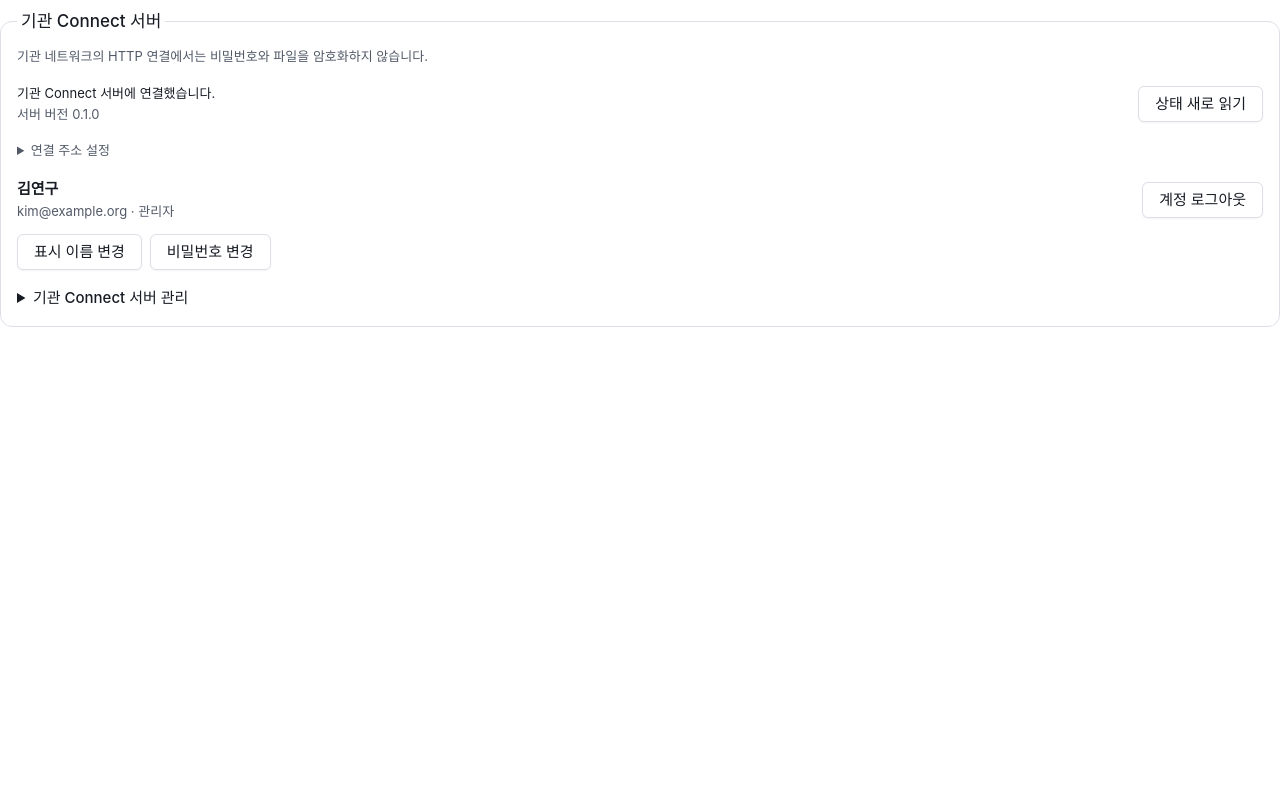
it: shows admin members, role changes and reversible account suspension; explains last-admin rejection
Click the heading "기관 Connect 서버 관리": (111, 298) [33,288,188,307]
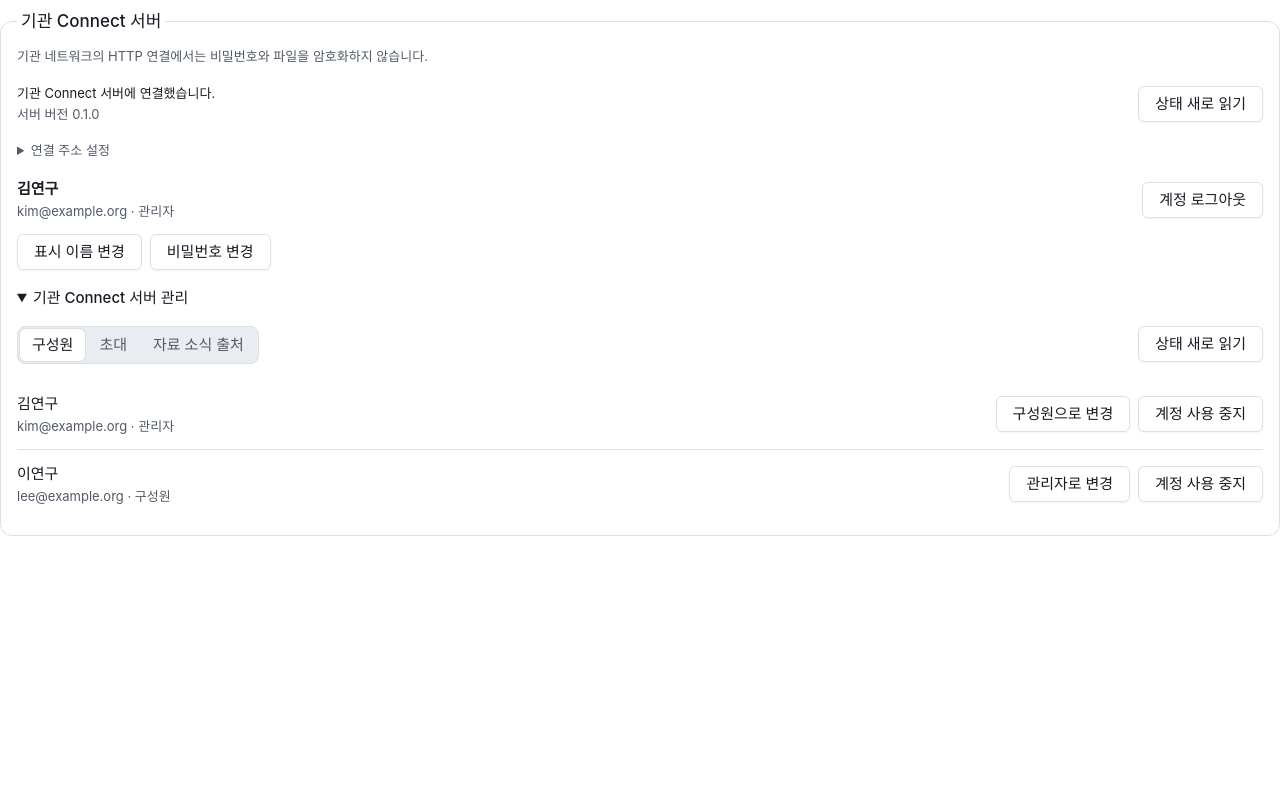
Click the button "관리자로 변경": (1070, 484) [1009,466,1130,502]
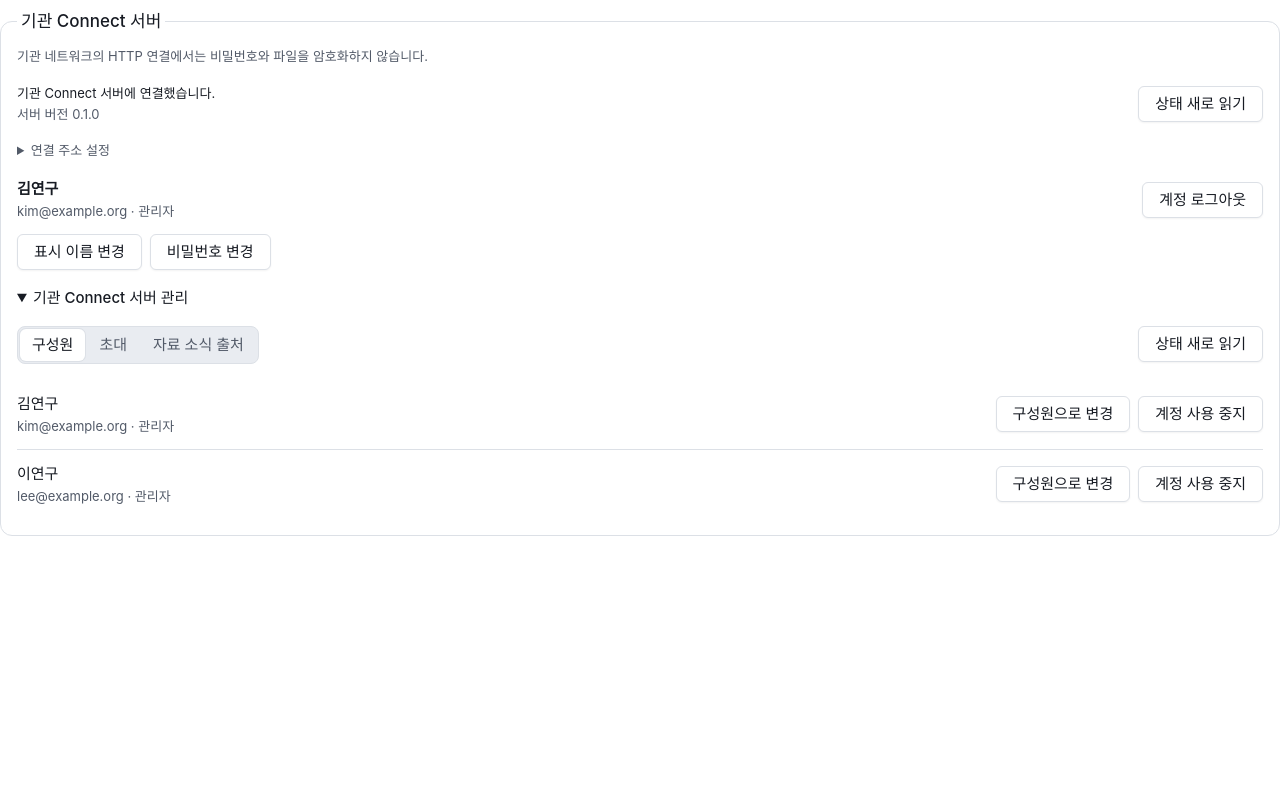
Check: the button "계정 사용 중지" in the row of "이연구" is enabled
Click the button "계정 사용 중지" in the row of "이연구": (1201, 484) [1138,466,1263,502]
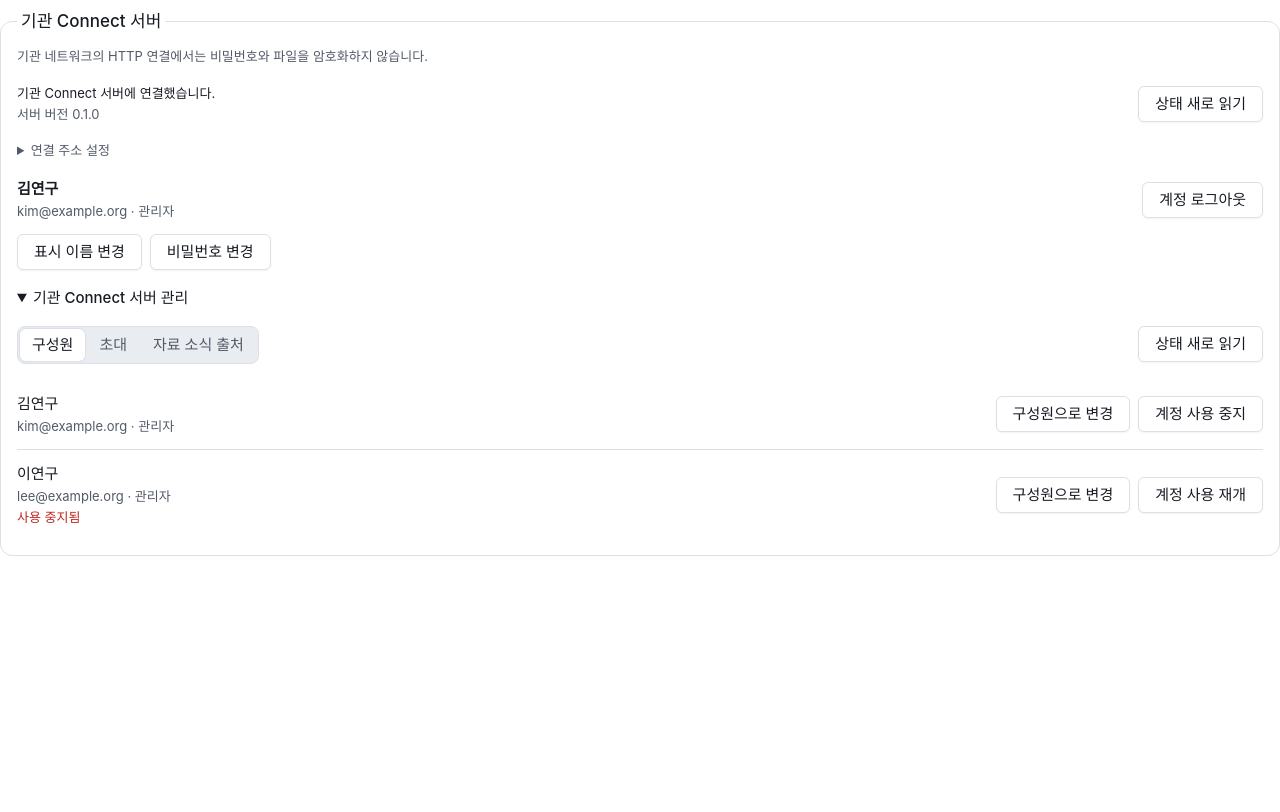
Check: the text "사용 중지됨" is shown, box [17,509,80,525]
Click the button "계정 사용 재개": (1201, 495) [1138,477,1263,513]
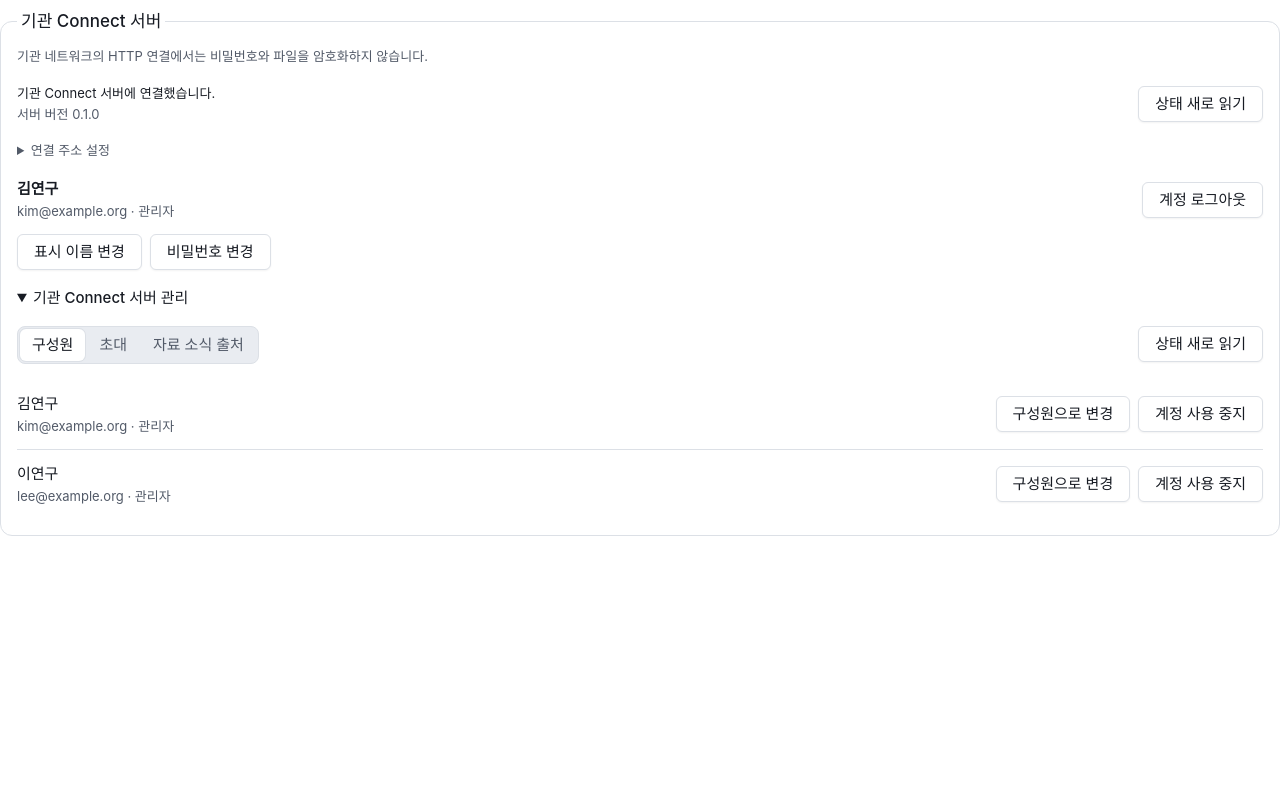
Check: the text "사용 중지됨" is gone
Click the button "구성원으로 변경" in the row of "이연구": (1063, 484) [996,466,1130,502]
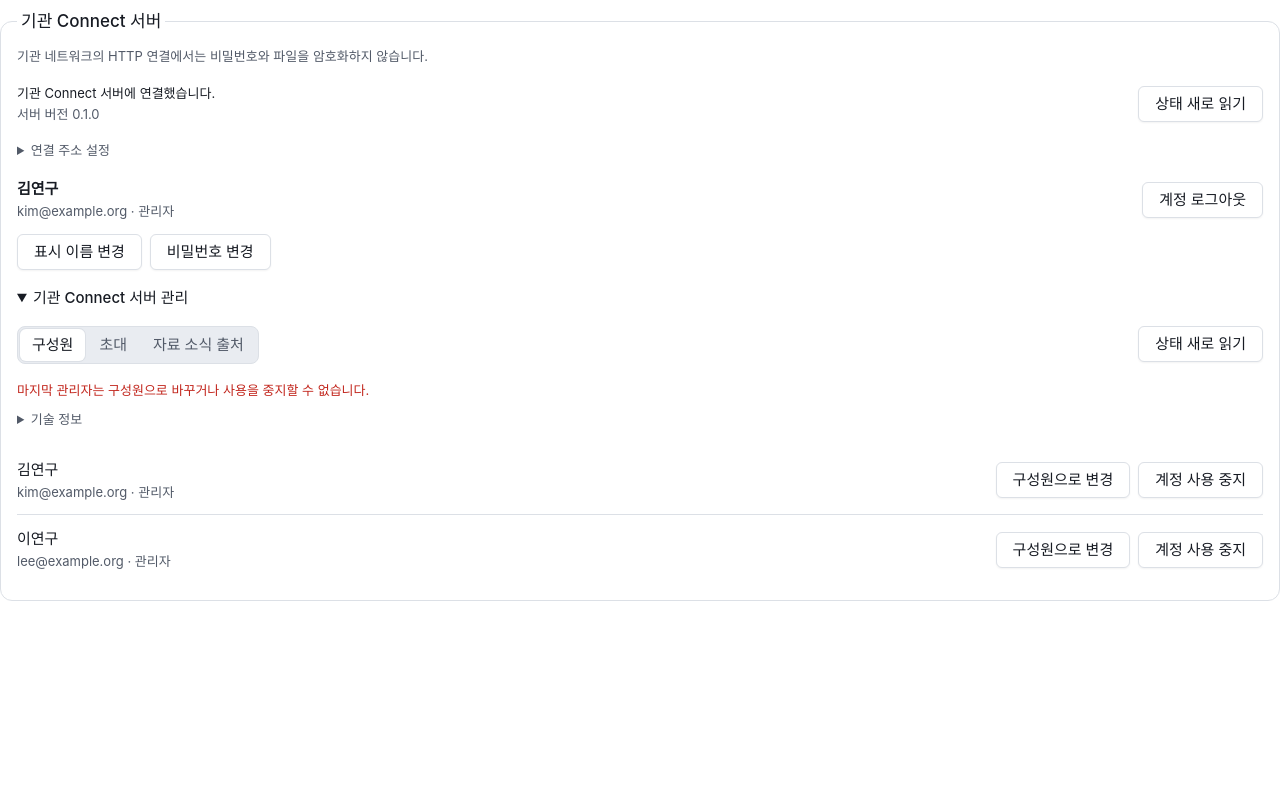
Check: the message "마지막 관리자는 구성원으로 바꾸거나 사용을 중지할 수 없습니다. 기술 정보" is shown, box [17,382,369,427]
